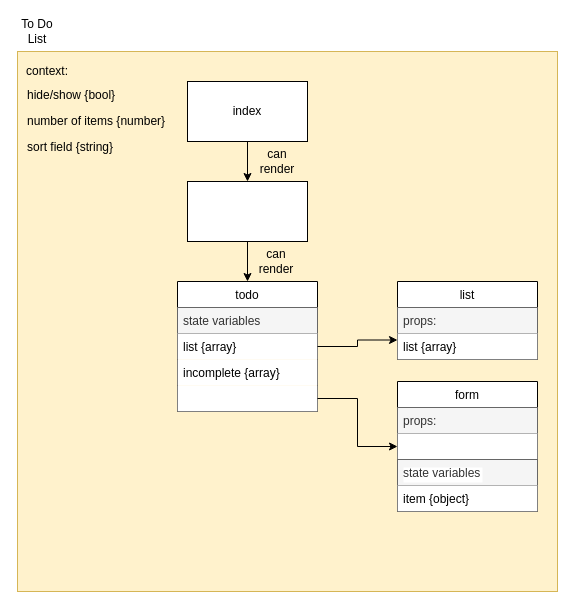
This 575x609 diagram has some shape labels left out. Each missing label, with the centre of its shape:
"app" belongs at [247,211].
"handleChange" belongs at [467,446].
"handleChange {func}" belongs at [247,398].
